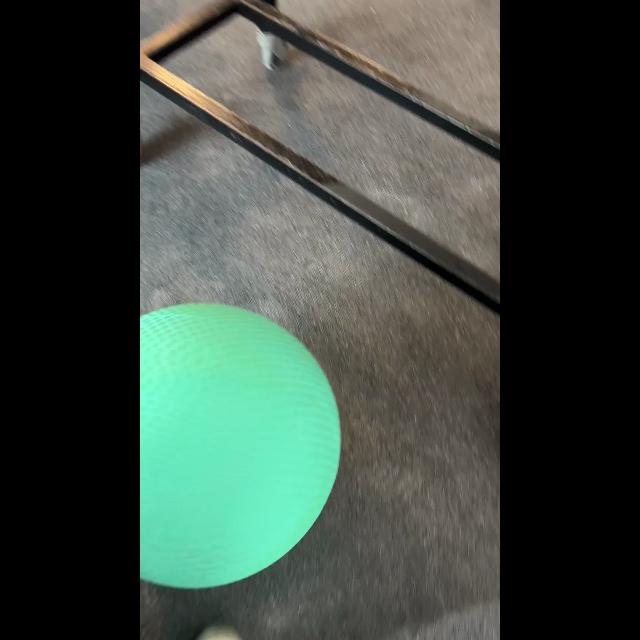ALGAE: (140, 302, 342, 590)
